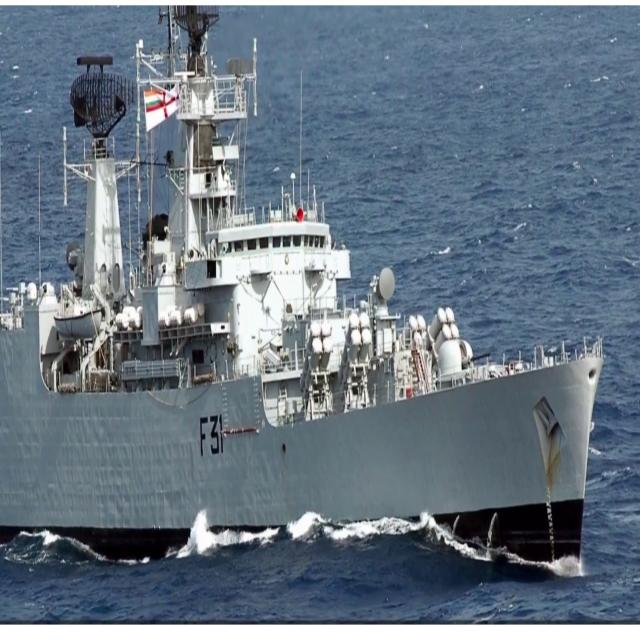OCR: (194, 406, 224, 463)
